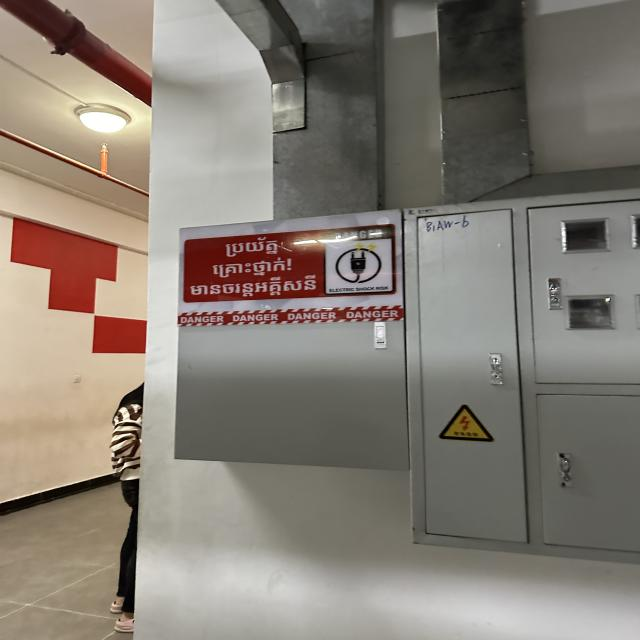Yolov11_80vkh: (185, 275, 321, 300), (207, 256, 297, 281), (218, 235, 284, 260)
